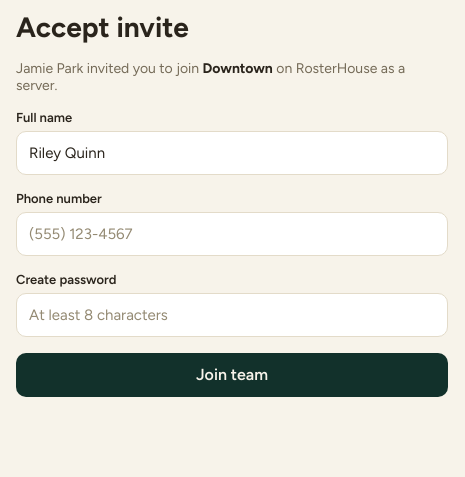
Test: AcceptInviteForm › validates fields before submitting
Clear the field labelled "Full name" at (232, 153), box [29, 144, 435, 162]
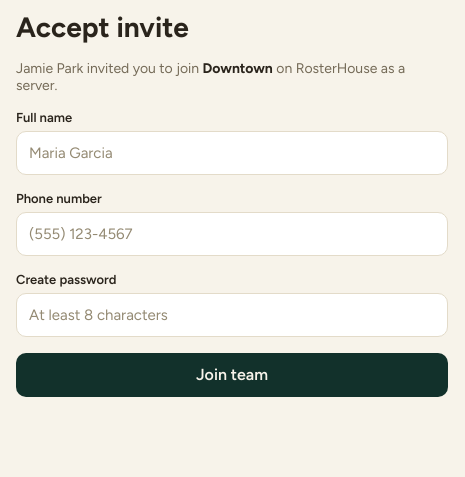
Click the button "Join team" at (232, 375), box [16, 353, 448, 397]
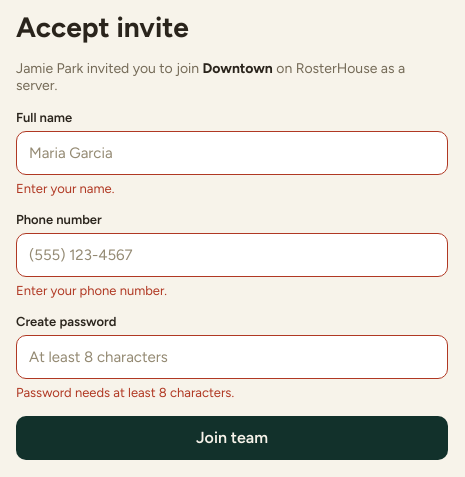
Check: the text "Enter your name." is shown, box [16, 181, 114, 196]
